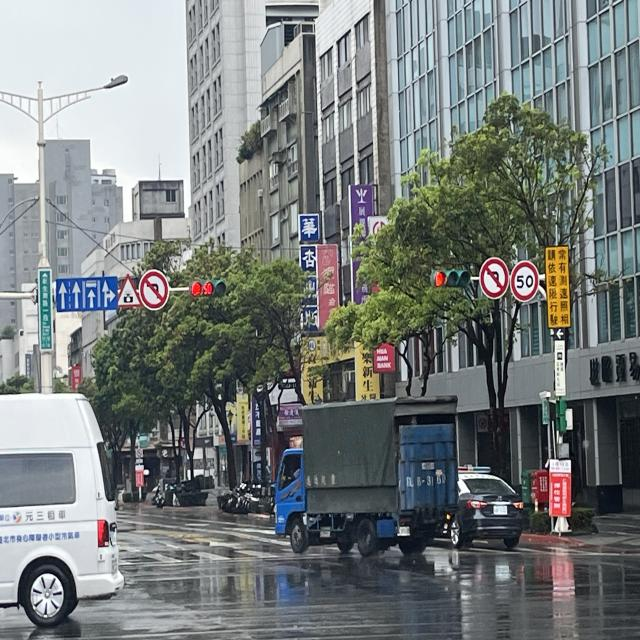red light: (189, 278, 228, 300), (432, 269, 471, 287)
